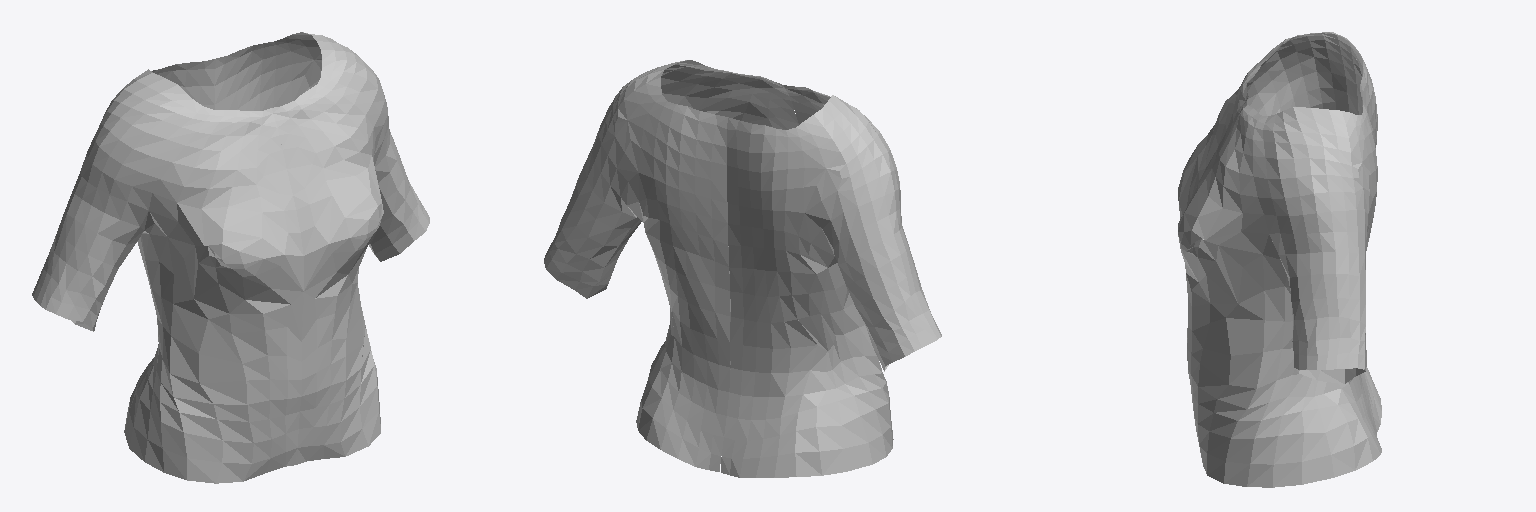
File: shirtmin.obj
The picture shows the model from 3 angles: view 1: azimuth 30°, elevation 25°; view 2: azimuth 150°, elevation 25°; view 3: azimuth 270°, elevation 25°; orthographic projection.
Parts seen in each view (by area): view 1: shirtmin_Realistic_White_Female_Low_Poly.015; view 2: shirtmin_Realistic_White_Female_Low_Poly.015; view 3: shirtmin_Realistic_White_Female_Low_Poly.015.
Part boxes in pixels (left/top/right/bottom): shirtmin_Realistic_White_Female_Low_Poly.015: left=32, top=32, right=429, bottom=483; shirtmin_Realistic_White_Female_Low_Poly.015: left=544, top=60, right=941, bottom=477; shirtmin_Realistic_White_Female_Low_Poly.015: left=1178, top=32, right=1381, bottom=487.
Bounding box in the file's own units: 0.5633 × 0.517 × 0.2588.